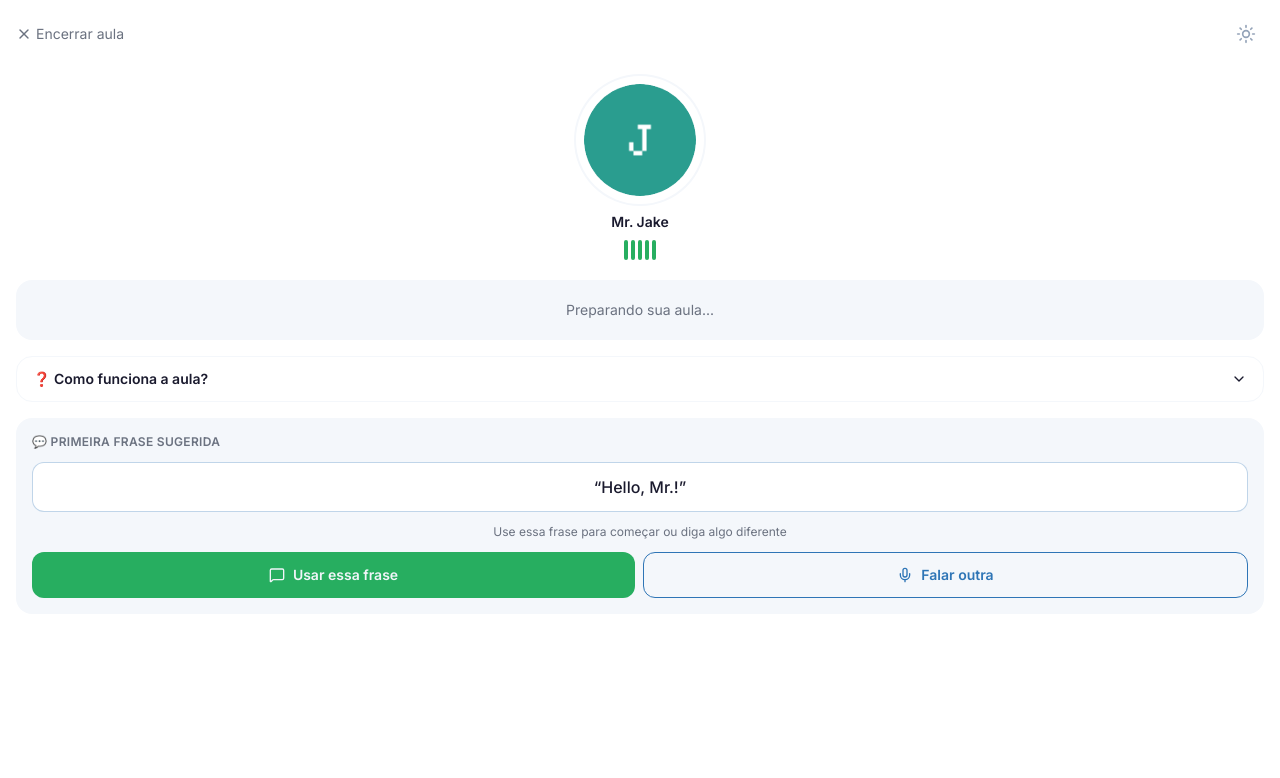
it: AulaClient › shows the new-badge highlight when the assess response includes newly_awarded_badges
Click the button "Encerrar aula" at (70, 34), box top-left (16, 24), bottom-right (124, 44)
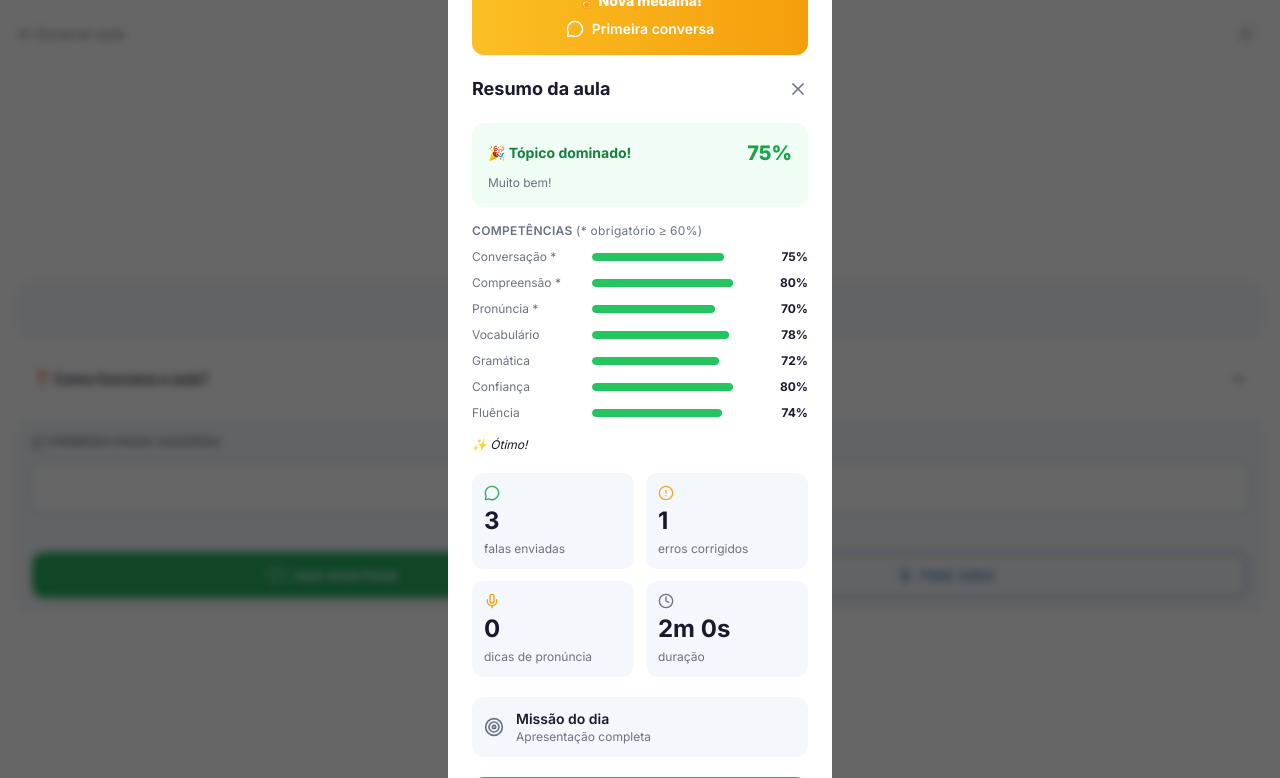
Result: the text "Primeira conversa" is shown at top-left (592, 19), bottom-right (714, 39)
